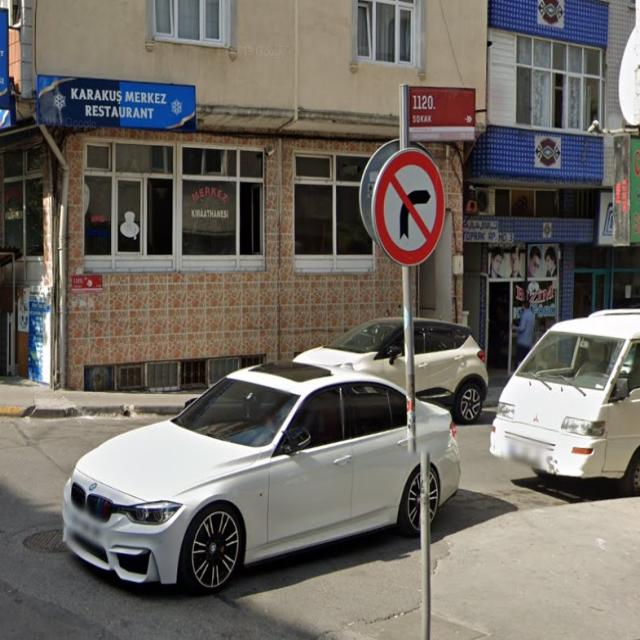sagadonulmez: (373, 149, 445, 267)
